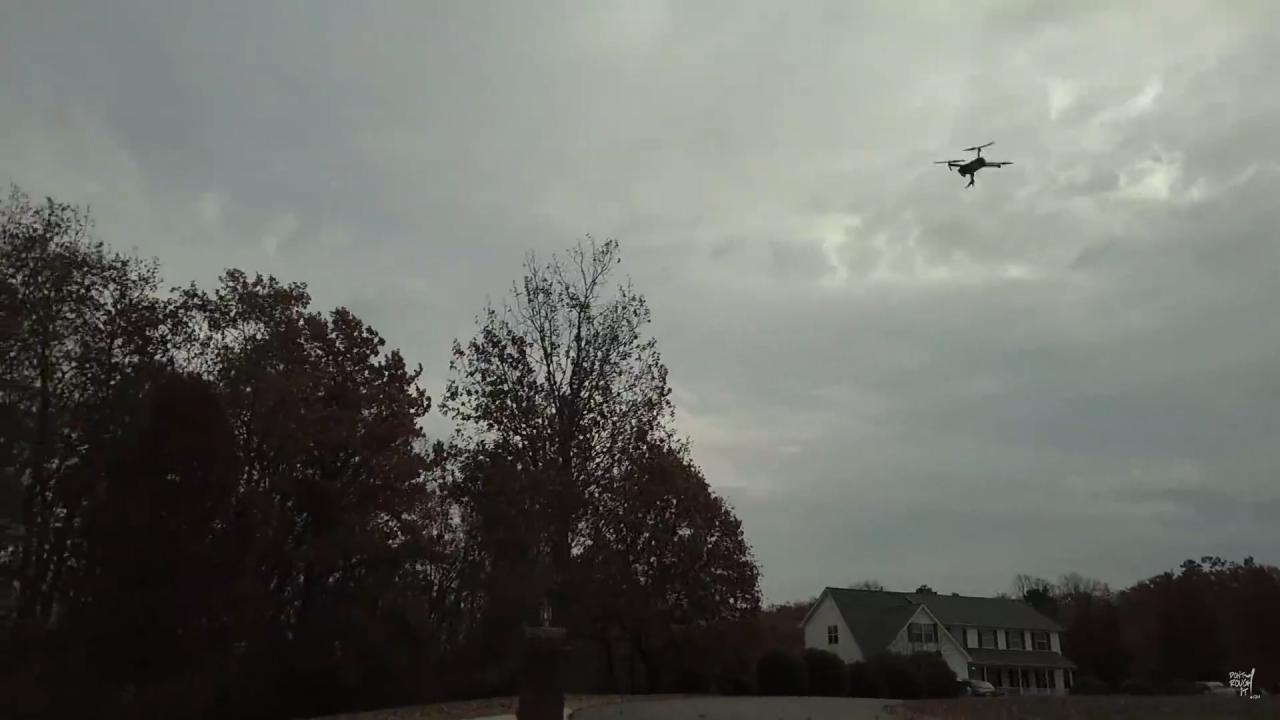Drone: (922, 131, 1028, 198)
